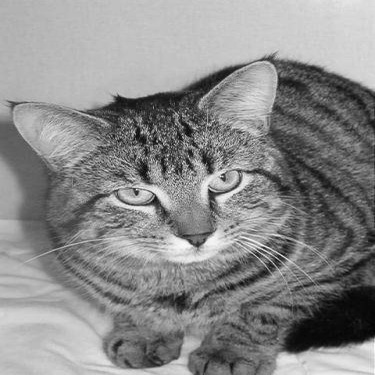cat: (3, 54, 372, 373)
